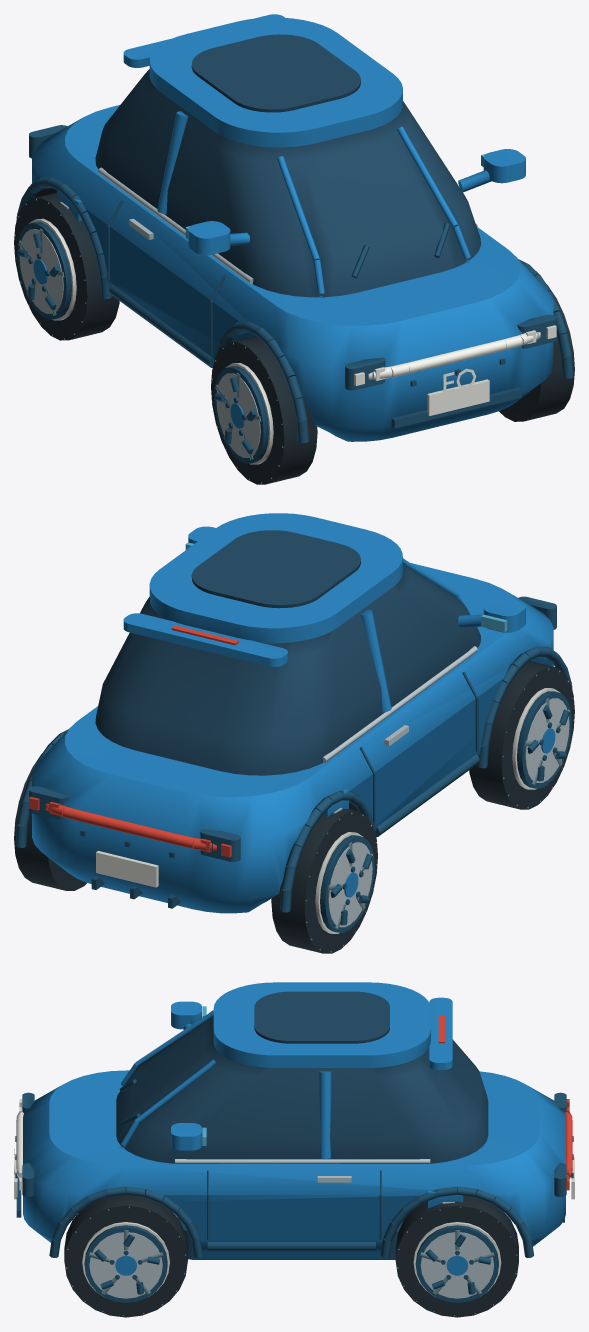
The model's file is car-blue.glb.
3 renders of one model, top to bottom at view 1: azimuth 30°, elevation 25°; view 2: azimuth 150°, elevation 25°; view 3: azimuth 270°, elevation 25°, orthographic. The views are drawn at different scales.
Parts seen in each view (by area): view 1: sculpted electric body, sloping panoramic cabin, electric tire, battery underbody, aero wheel cover, flush door handle, aero spoke; view 2: sculpted electric body, sloping panoramic cabin, electric tire, battery underbody, flush door handle, aero wheel cover, conforming LED ribbon.012, aero spoke; view 3: sculpted electric body, sloping panoramic cabin, electric tire, battery underbody, flush door handle, aero wheel cover, aero spoke, conforming LED ribbon.012.
Part boxes in pixels (bbox=[...]): sculpted electric body: bbox=[32, 14, 553, 441]; sloping panoramic cabin: bbox=[95, 34, 480, 297]; electric tire: bbox=[14, 192, 574, 484]; battery underbody: bbox=[16, 125, 573, 463]; aero wheel cover: bbox=[28, 218, 556, 464]; flush door handle: bbox=[19, 167, 477, 457]; aero spoke: bbox=[14, 198, 283, 483]; sculpted electric body: bbox=[32, 513, 555, 913]; sloping panoramic cabin: bbox=[95, 530, 480, 775]; electric tire: bbox=[14, 661, 574, 953]; battery underbody: bbox=[15, 596, 572, 932]; flush door handle: bbox=[322, 646, 569, 927]; aero wheel cover: bbox=[96, 688, 560, 933]; conforming LED ribbon.012: bbox=[29, 625, 238, 857]; aero spoke: bbox=[305, 668, 574, 952]; sculpted electric body: bbox=[23, 982, 565, 1275]; sloping panoramic cabin: bbox=[116, 991, 488, 1163]; electric tire: bbox=[64, 1195, 518, 1317]; battery underbody: bbox=[15, 1079, 573, 1302]; flush door handle: bbox=[89, 1159, 493, 1298]; aero wheel cover: bbox=[14, 1099, 574, 1297]; aero spoke: bbox=[66, 1206, 517, 1316]; conforming LED ribbon.012: bbox=[438, 1015, 572, 1190].
Size of the model in its own units: 1.03 by 0.864 by 1.82.
